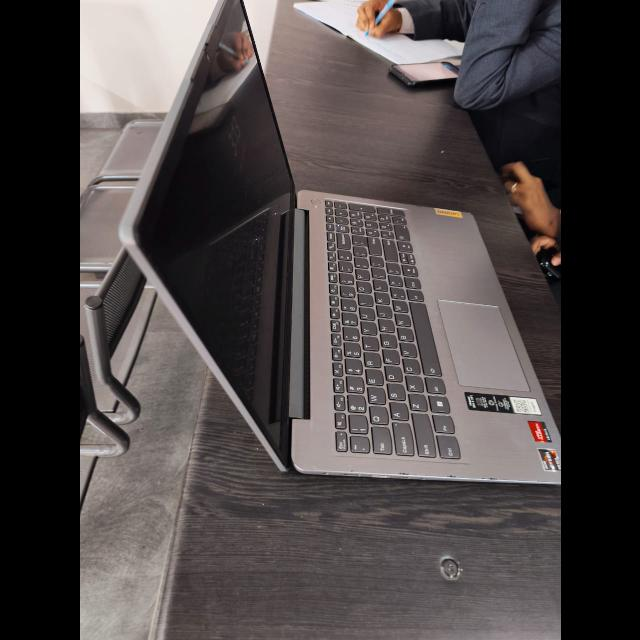laptop: (120, 3, 560, 525)
